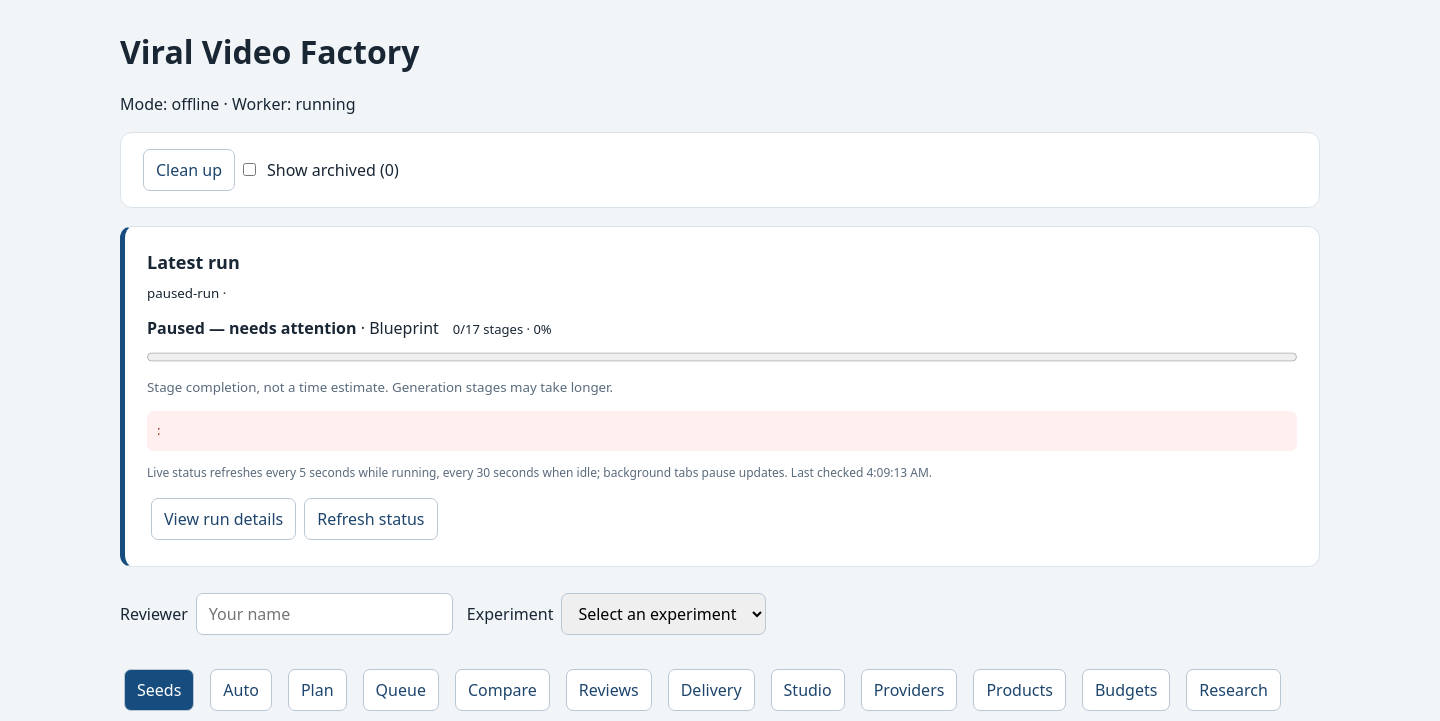
Test case: only clears the saved selection, preserving request identities and event cursor
Click the button "Clean up" at (189, 170), box x1=143 y1=149 x2=235 y2=191
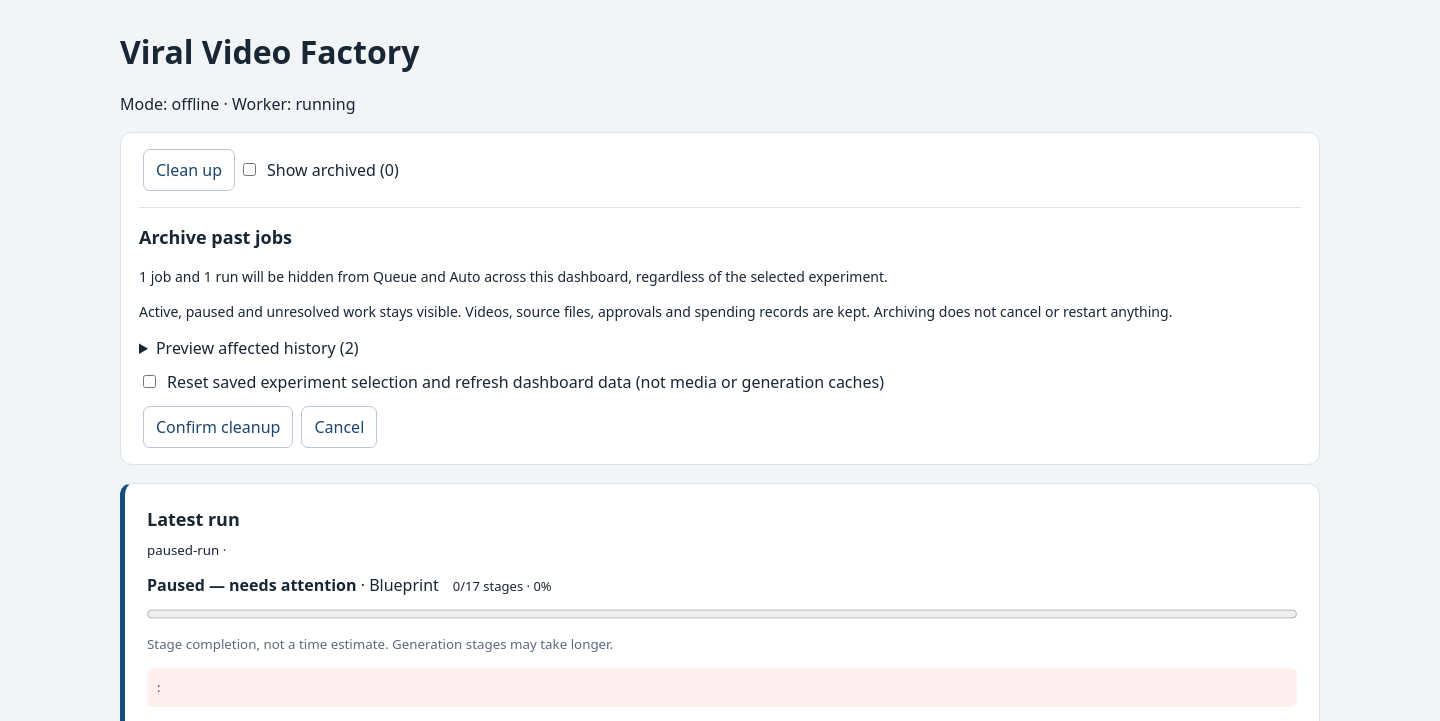
Click the checkbox labelled "Reset saved experiment selection" at (150, 382), box x1=143 y1=375 x2=156 y2=388
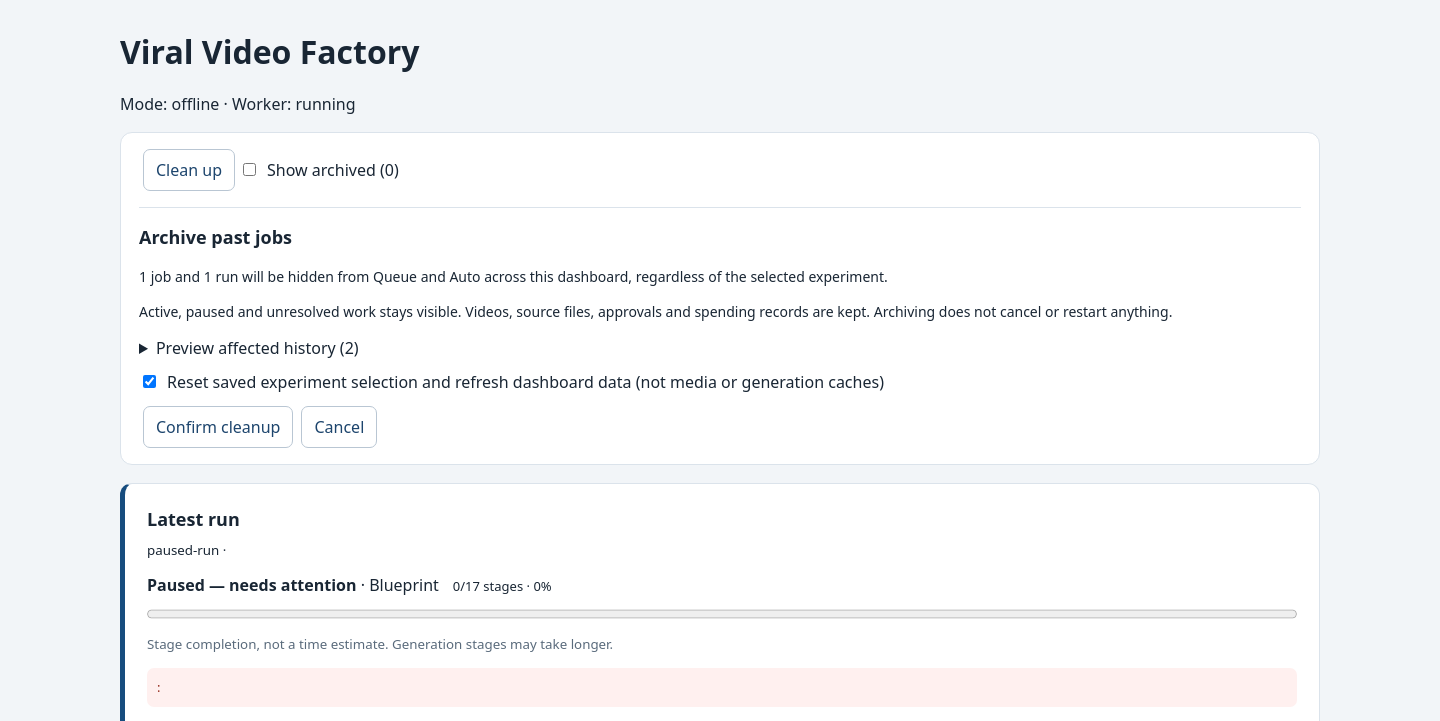
Click the button "Confirm cleanup" at (218, 427), box x1=143 y1=406 x2=294 y2=448
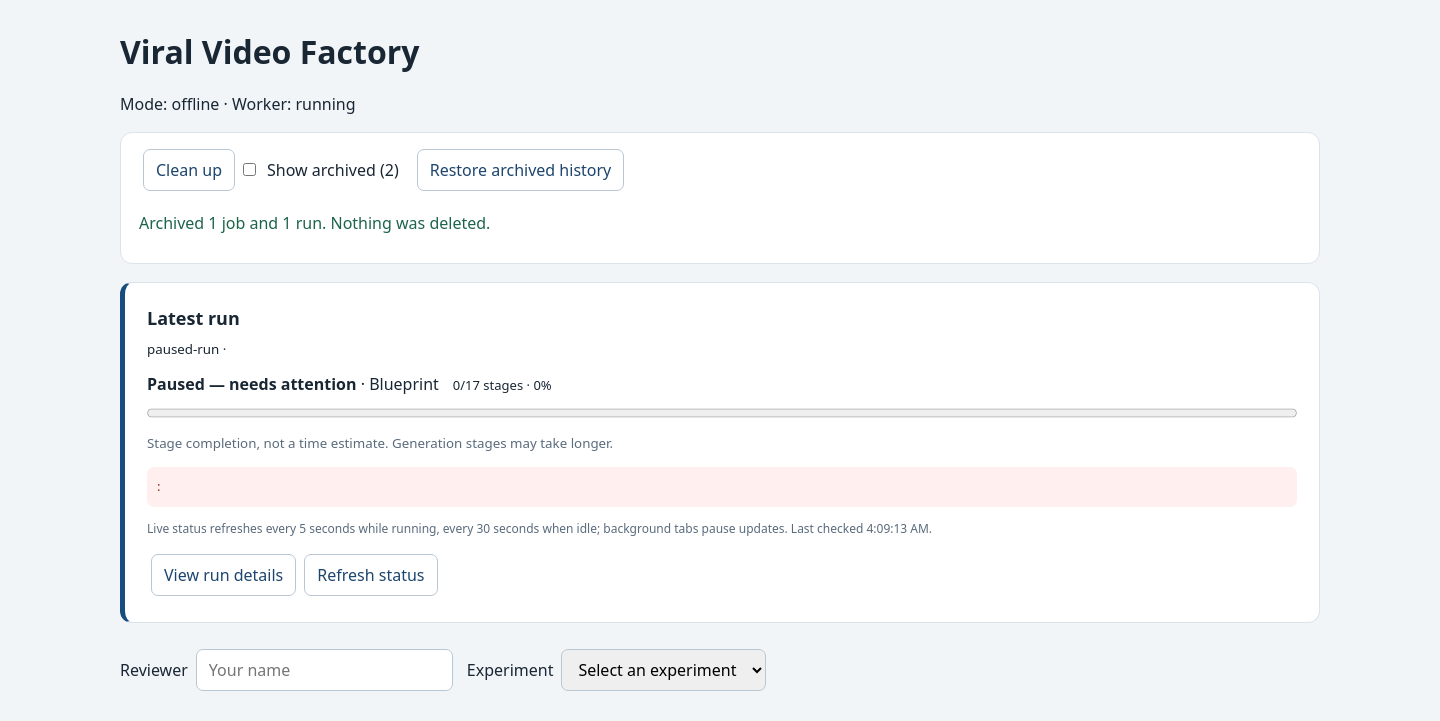
Result: the text "Archived 1 job and 1 run. Nothing was deleted." is shown at x1=139 y1=212 x2=490 y2=234
